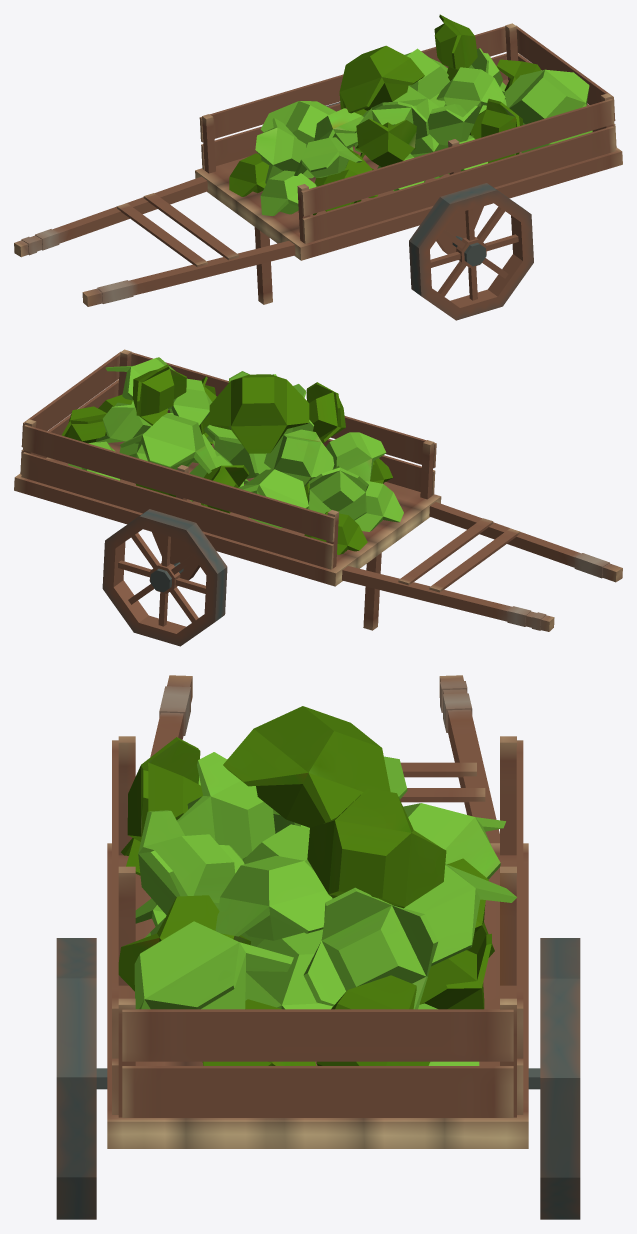
Rendered from kit-wagon.glb.
The picture shows the model from 3 angles, top to bottom: view 1: azimuth 30°, elevation 25°; view 2: azimuth 150°, elevation 25°; view 3: azimuth 270°, elevation 25°; orthographic projection. The views are drawn at different scales.
Visible parts, largest first — view 1: Cube.033; view 2: Cube.033; view 3: Cube.033.
Boxes of the visible parts, x1,y1,x2,y2 form: Cube.033: (14, 14, 622, 320); Cube.033: (14, 349, 622, 646); Cube.033: (56, 675, 580, 1219).
Bounding box in the file's own units: 2.73 × 1.14 × 1.19.
1 material, 1 textured.
